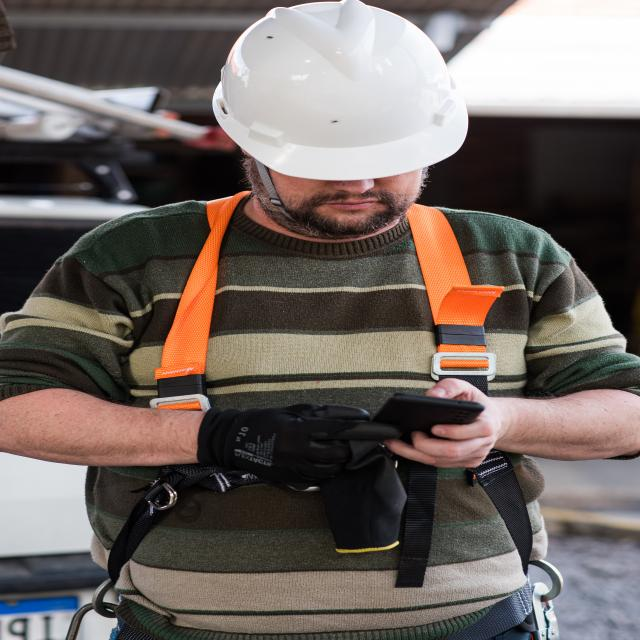capacete: (205, 1, 487, 181)
corda de vida: (51, 187, 570, 640)
luva: (183, 400, 405, 497)
